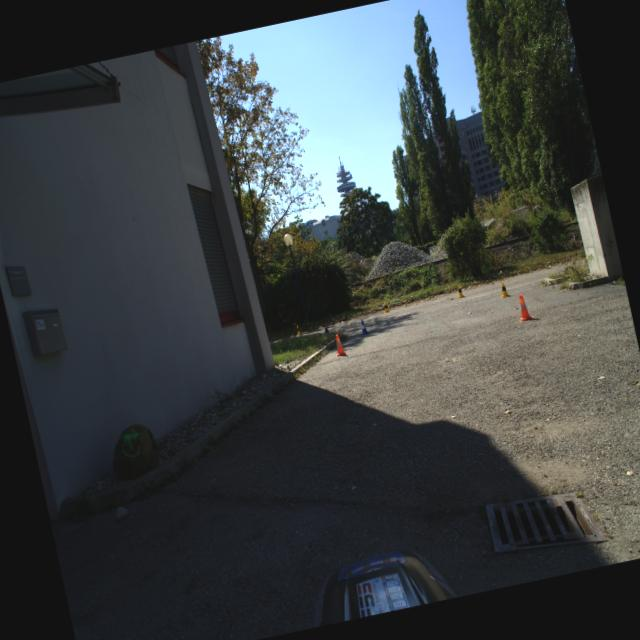blue_cone: (357, 318, 370, 336), (322, 326, 329, 334)
orange_cone: (512, 292, 534, 322), (332, 332, 346, 357)
yellow_cone: (497, 280, 510, 298), (454, 284, 465, 298), (294, 324, 302, 336), (381, 300, 389, 312)
